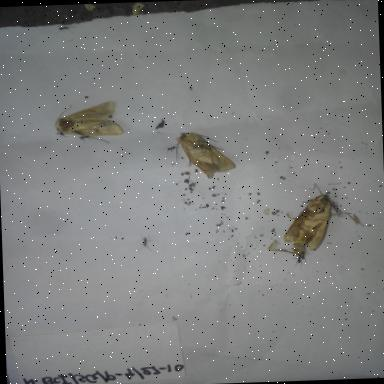abw: (264, 178, 355, 264), (169, 127, 248, 184), (50, 95, 129, 148)
